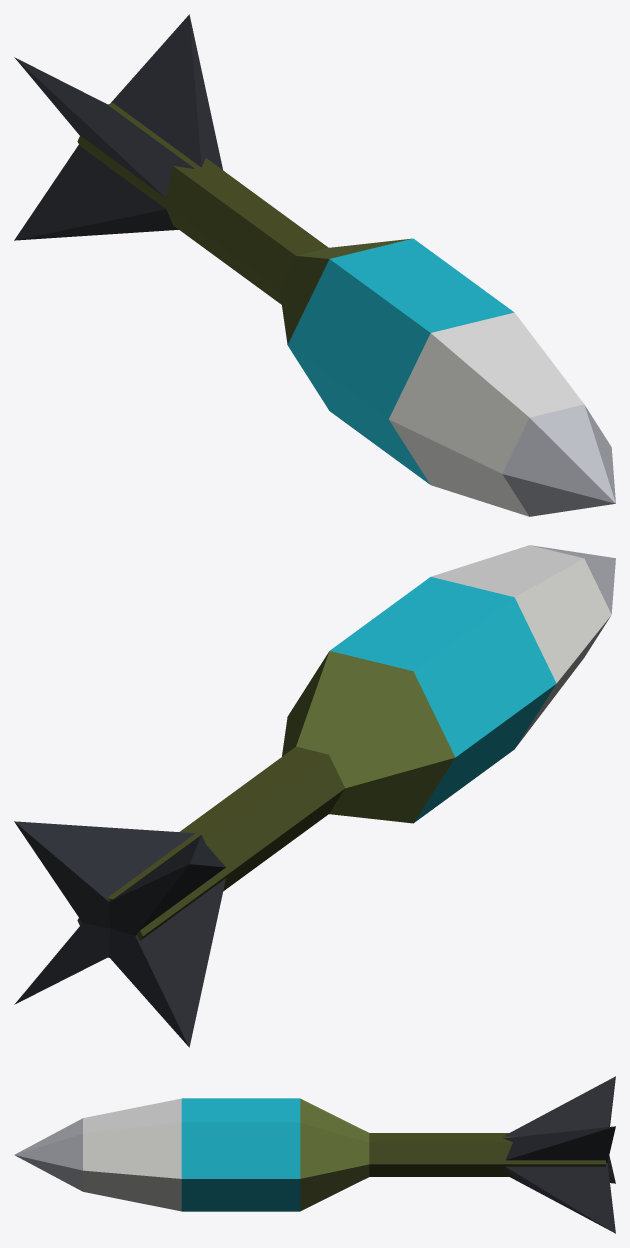
Rendered from proj_rocket.glb.
3 renders of one model, top to bottom at view 1: azimuth 30°, elevation 25°; view 2: azimuth 150°, elevation 25°; view 3: azimuth 270°, elevation 25°, orthographic. The views are drawn at different scales.
Parts seen in each view (by area): view 1: proj_rocket; view 2: proj_rocket; view 3: proj_rocket.
Boxes of the visible parts, x1,y1,x2,y2 form: proj_rocket: (14,14,615,516); proj_rocket: (14,545,615,1047); proj_rocket: (14,1076,615,1233).
Size of the model in its own units: 0.2404 by 0.2404 by 1.22.
